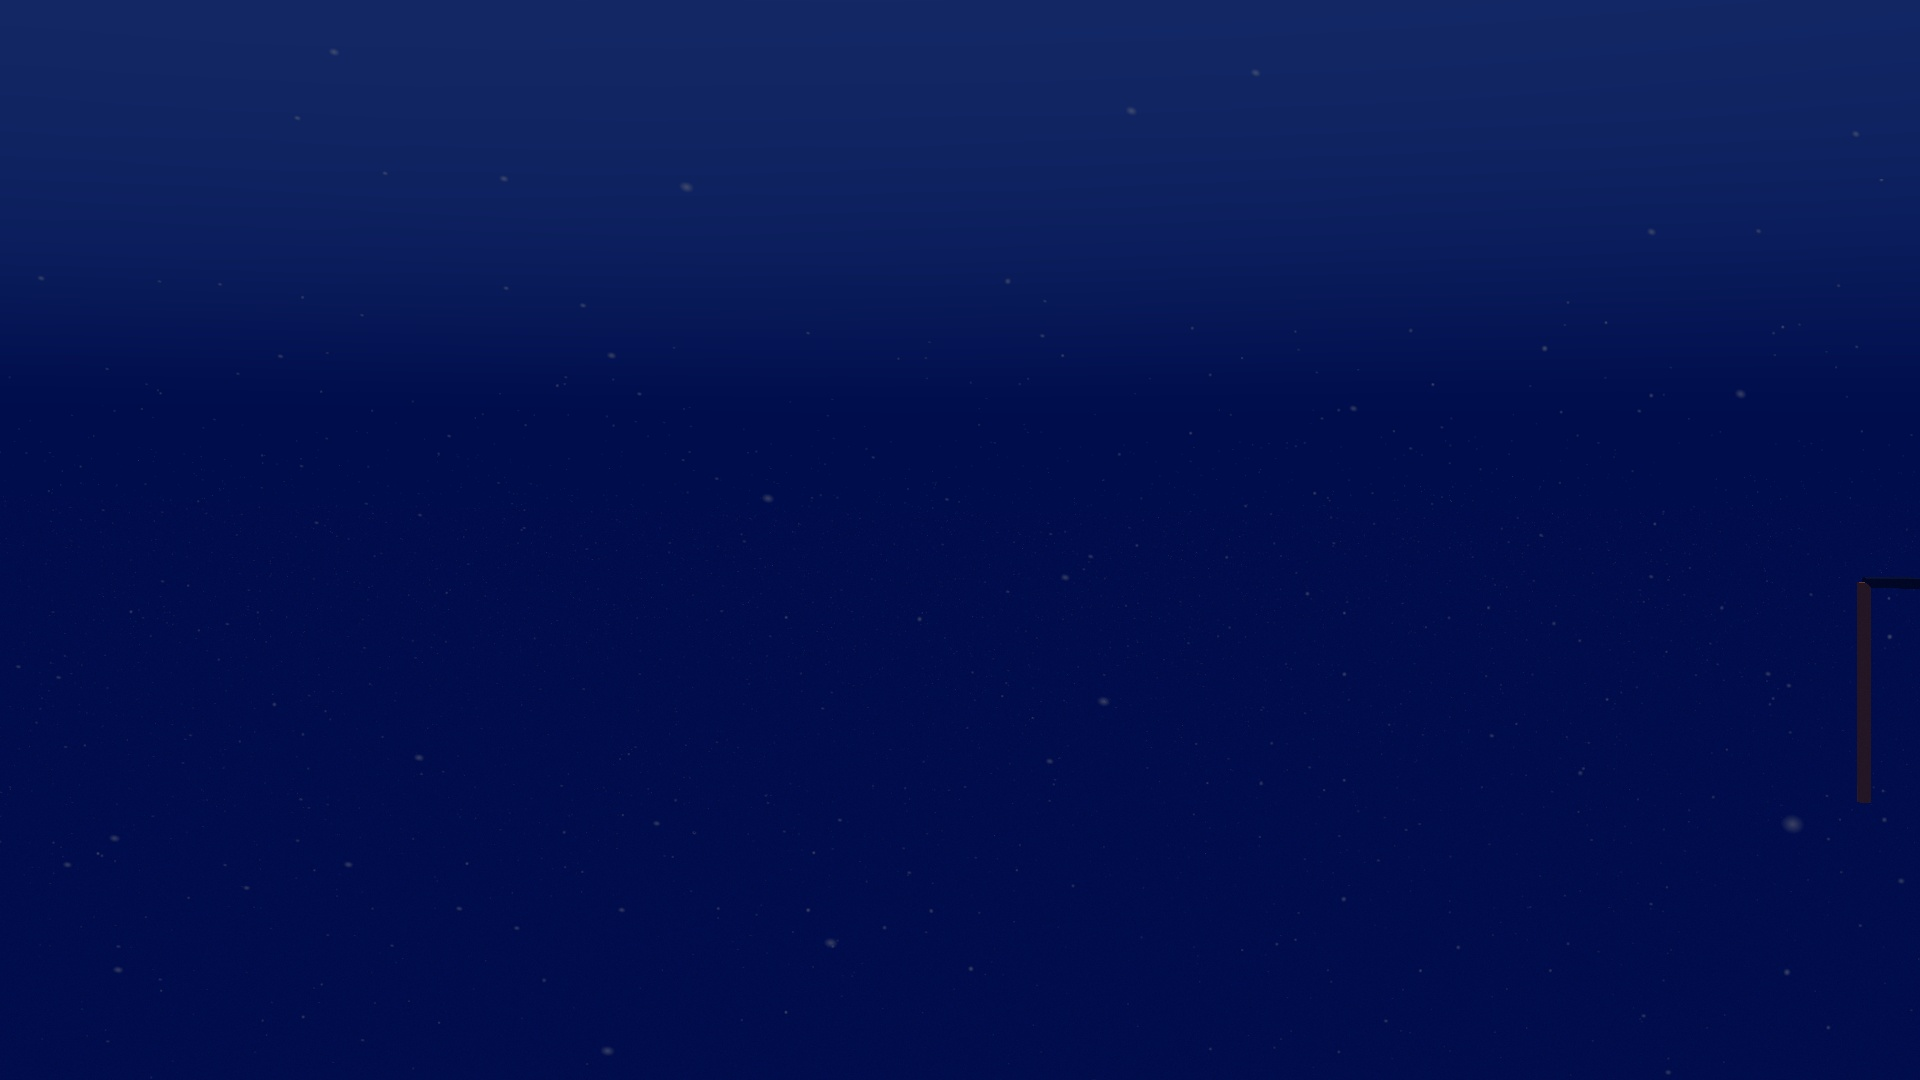Gate: (1854, 572, 1920, 806)
